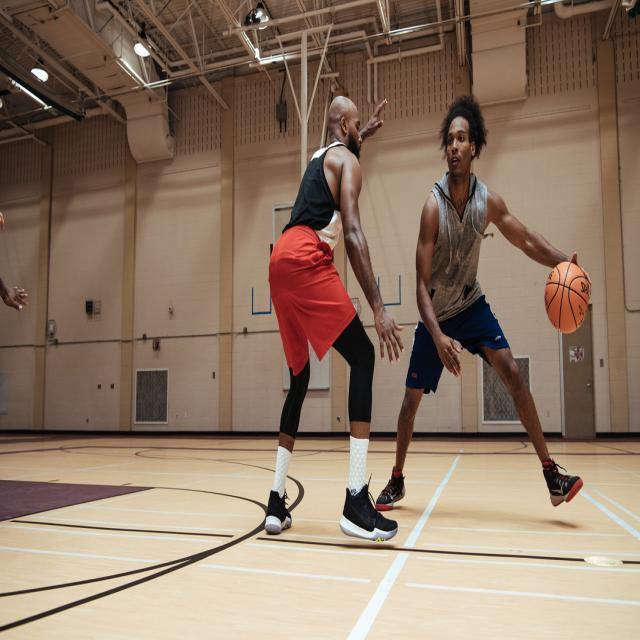basketball: (544, 260, 590, 334)
